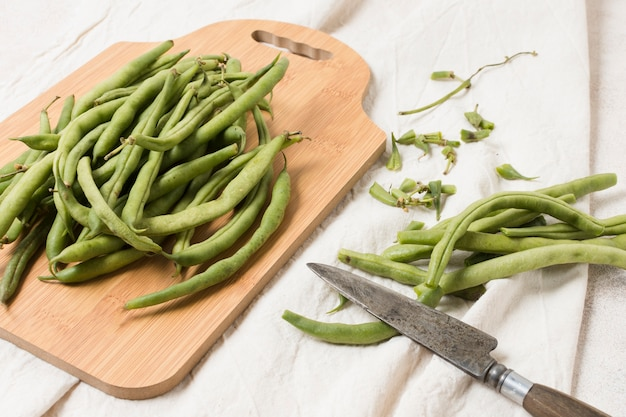knife: (305, 258, 617, 417)
